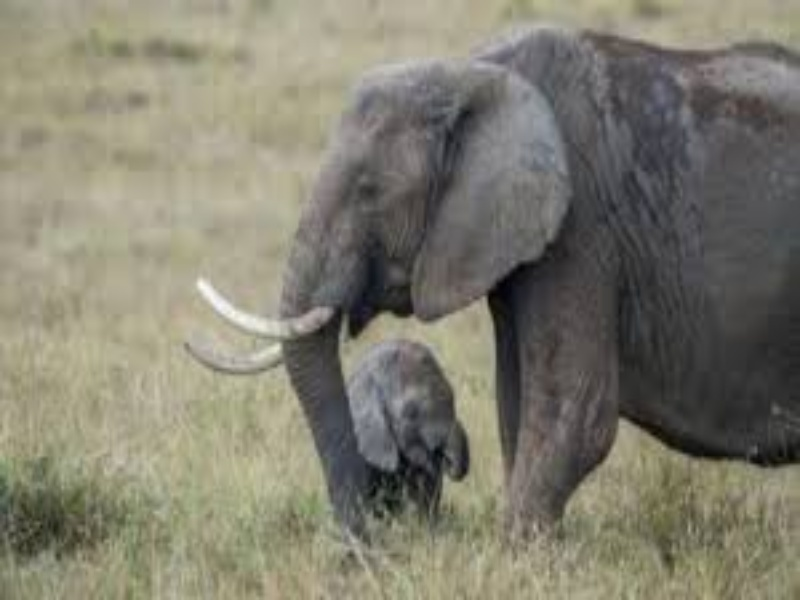elephant: (190, 20, 800, 569), (348, 347, 490, 522)
